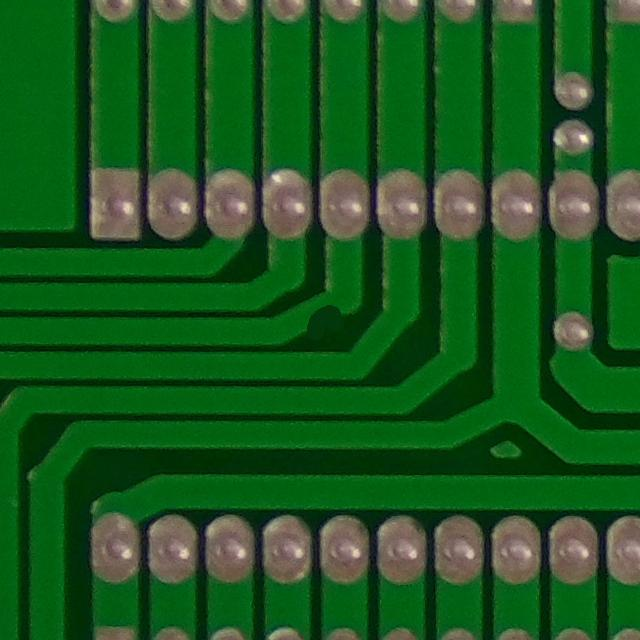mouse_bite: (284, 292, 357, 348)
